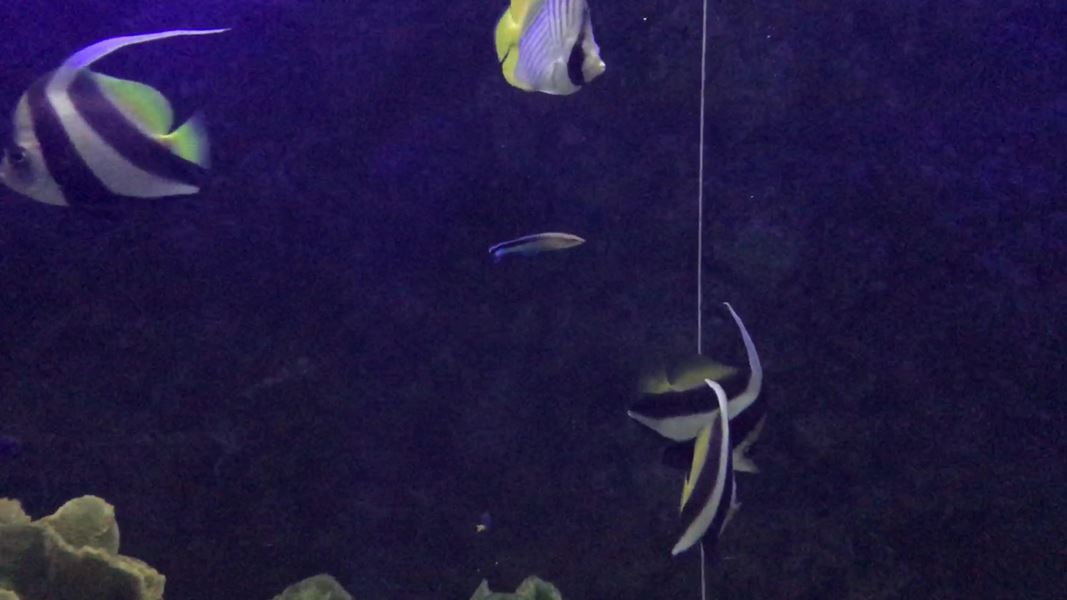Bluesteak cleaner wrasse: (478, 223, 592, 270)
